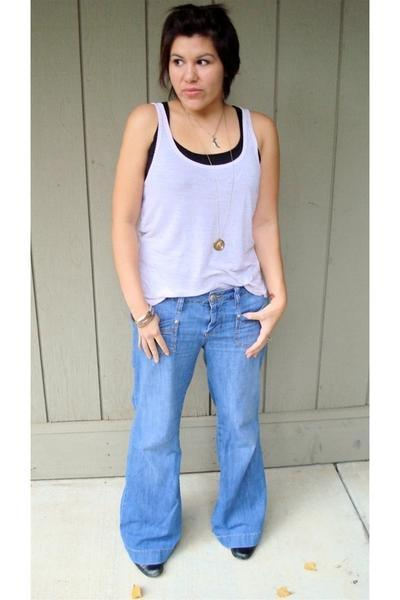pants: (120, 285, 271, 563)
shirt: (140, 90, 266, 304)
shoe: (135, 540, 259, 577)
